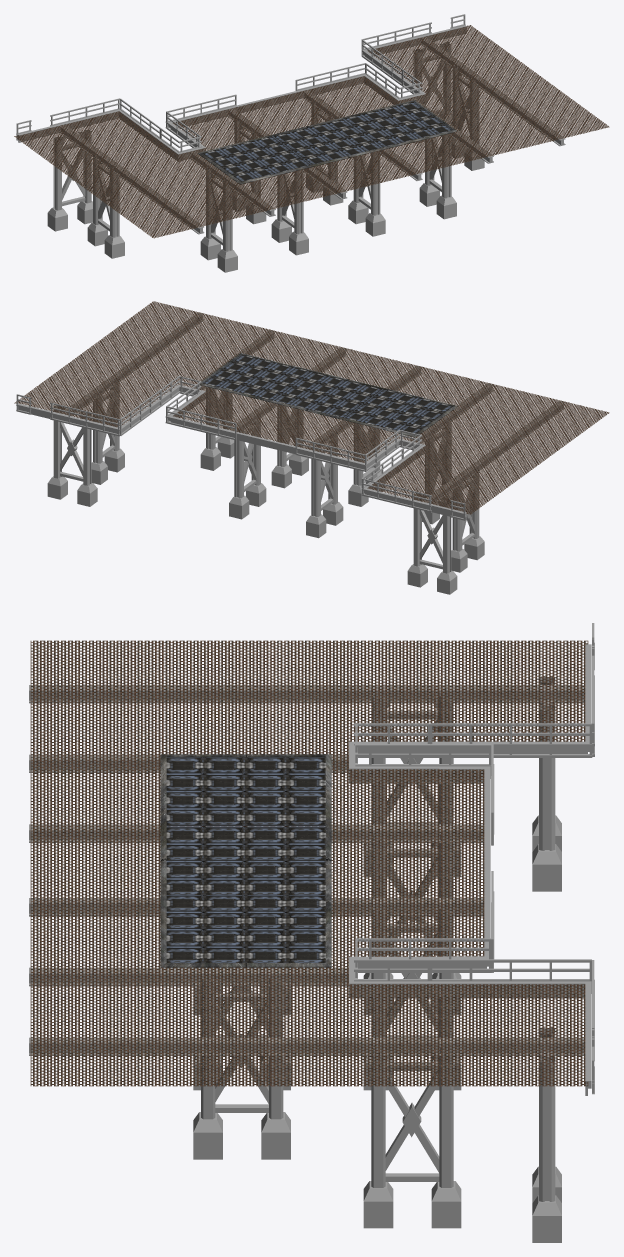
Rendered from strct_A_secondfloor_setup.fbx.
3 renders of one model, top to bottom at view 1: azimuth 30°, elevation 25°; view 2: azimuth 150°, elevation 25°; view 3: azimuth 270°, elevation 25°, orthographic. The views are drawn at different scales.
Parts seen in each view (by area): view 1: polySurface166; view 2: polySurface166; view 3: polySurface166.
Boxes of the visible parts, x1,y1,x2,y2 form: polySurface166: (14,14,609,272); polySurface166: (14,301,609,594); polySurface166: (29,623,594,1242).
Bounding box in the file's own units: 3068 × 658 × 1646.
